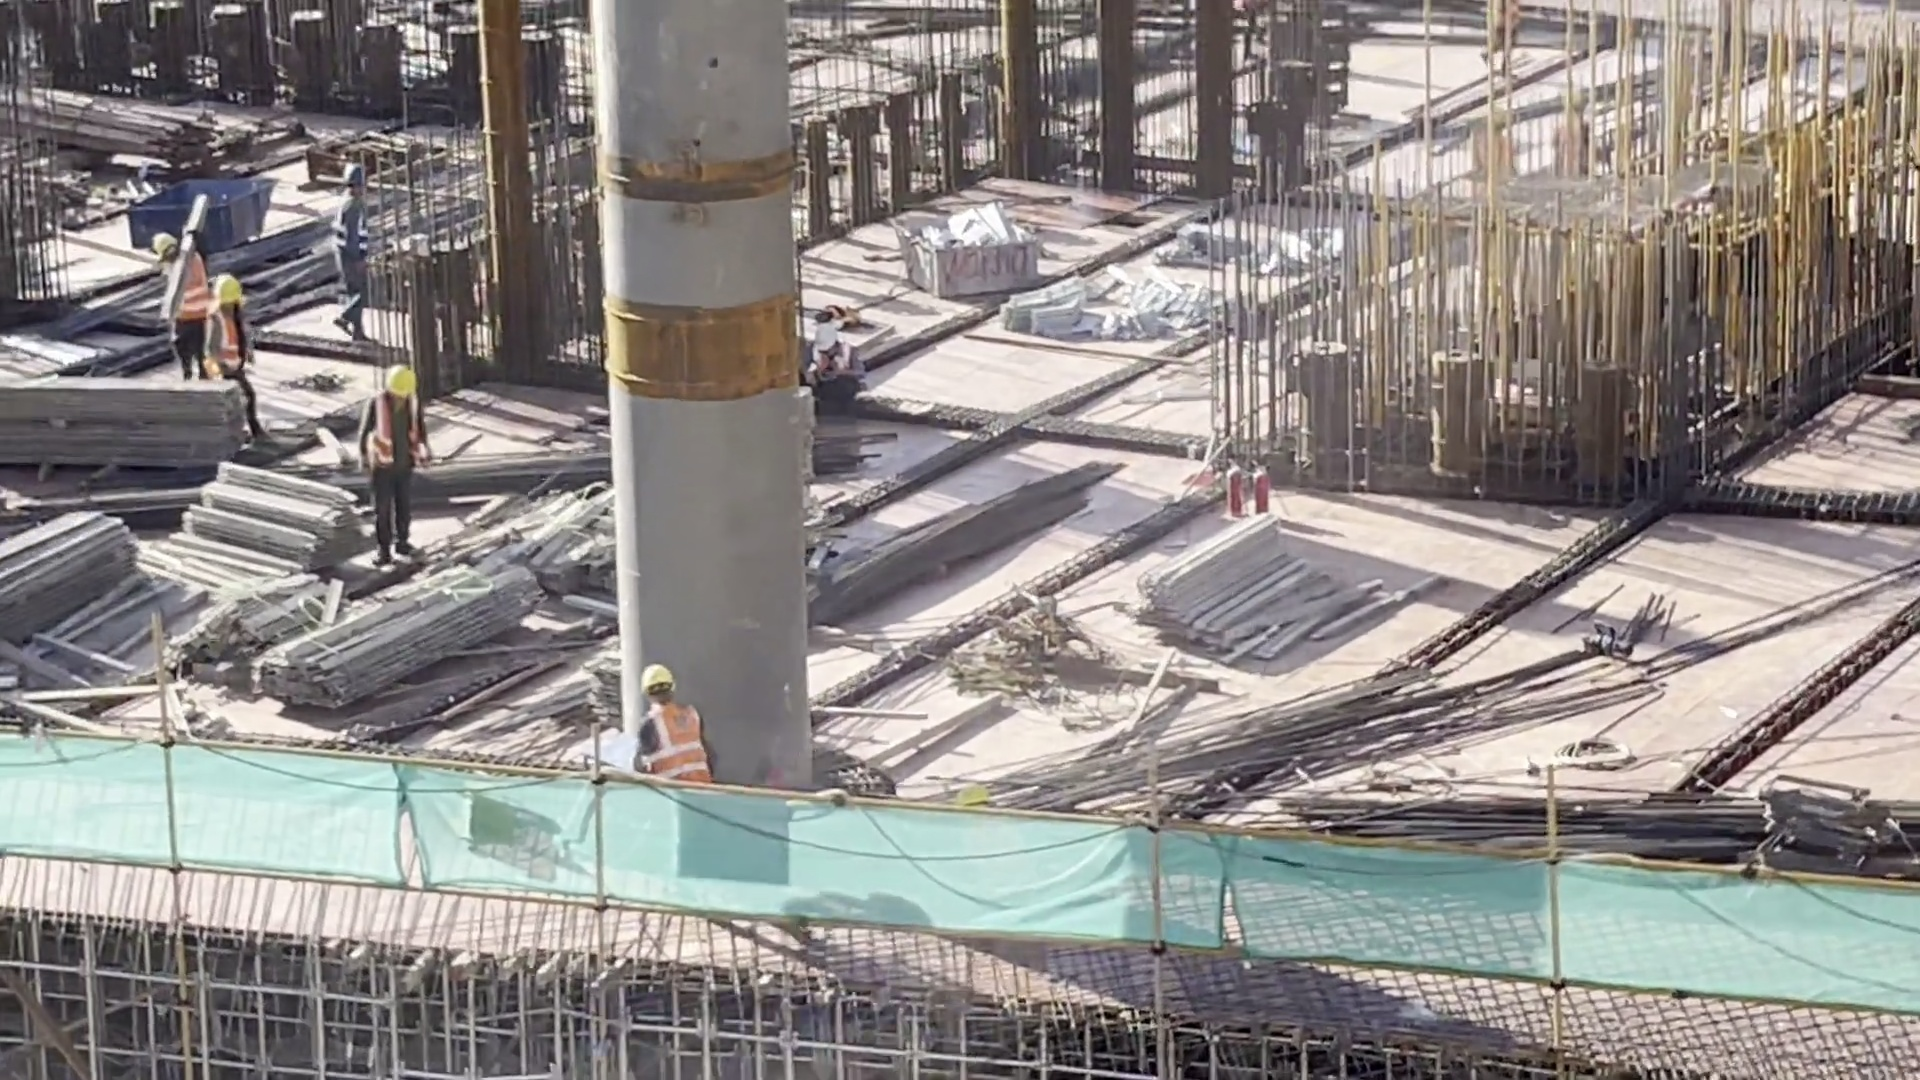helmet: (377, 348, 412, 402), (149, 231, 189, 263), (807, 313, 841, 348), (343, 163, 369, 190), (648, 664, 666, 695), (211, 278, 238, 297)
hopper: (112, 164, 293, 263), (895, 193, 1049, 300)
person: (358, 360, 426, 567), (621, 658, 715, 797), (323, 150, 381, 349), (136, 220, 208, 379), (193, 267, 256, 430), (784, 302, 873, 408)
vest: (623, 702, 723, 774), (354, 393, 399, 469), (328, 190, 366, 263), (170, 258, 208, 315), (212, 312, 248, 372)
wood: (256, 554, 538, 708), (1138, 504, 1345, 661), (170, 437, 375, 579), (10, 363, 244, 482), (1, 483, 145, 658), (186, 450, 344, 583)
